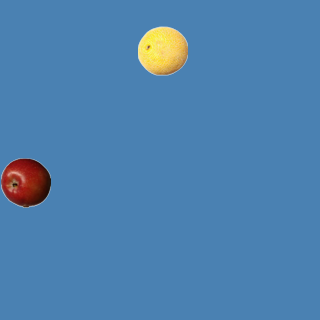Apple Braeburn: (0, 157, 50, 207)
Cantaloupe 1: (137, 25, 187, 75)
